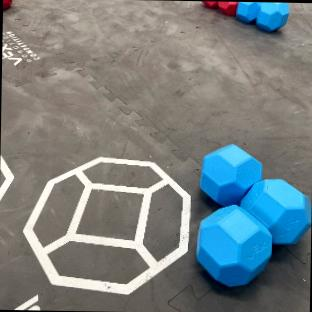V5_BLUE: (195, 144, 311, 286), (197, 205, 270, 286), (241, 179, 311, 243), (200, 144, 261, 204), (256, 2, 288, 30), (235, 1, 260, 21)
V5_RED: (217, 1, 238, 14), (203, 1, 215, 6)
